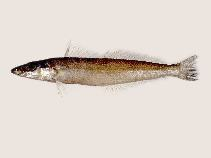kiss: (5, 42, 202, 95)
